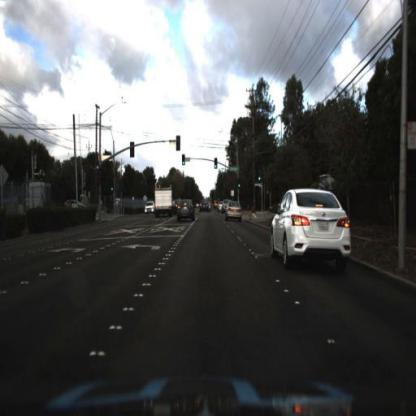car: (267, 176, 352, 282), (59, 191, 90, 215), (226, 199, 251, 222), (176, 198, 196, 222), (142, 200, 156, 220), (199, 198, 213, 214), (144, 201, 156, 217)
trafficLight-Green: (212, 159, 222, 175), (109, 183, 117, 200), (181, 155, 189, 170), (236, 177, 243, 191), (236, 181, 243, 193), (258, 169, 263, 185), (256, 175, 263, 186), (214, 157, 219, 170)
truck: (153, 183, 177, 222), (152, 188, 177, 219)
